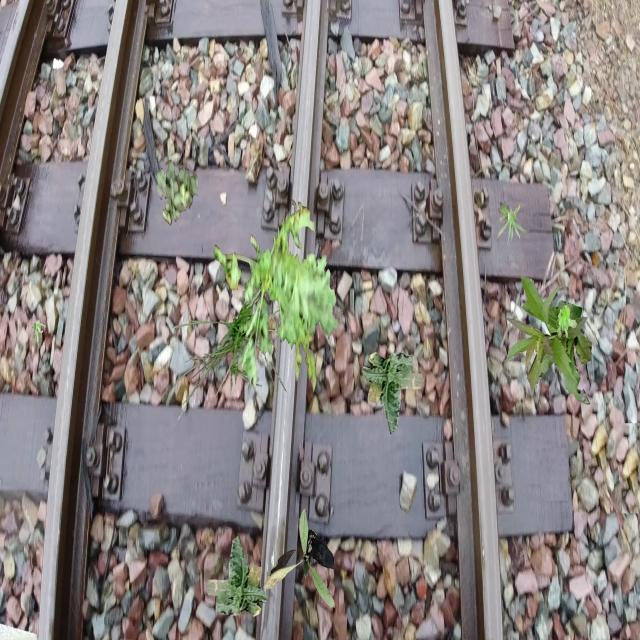Plant: (214, 199, 339, 395), (170, 258, 288, 422), (503, 275, 592, 405), (263, 508, 334, 608), (205, 534, 268, 617), (361, 352, 424, 435), (155, 159, 198, 226), (497, 201, 530, 247), (556, 305, 576, 338), (32, 322, 46, 342)
